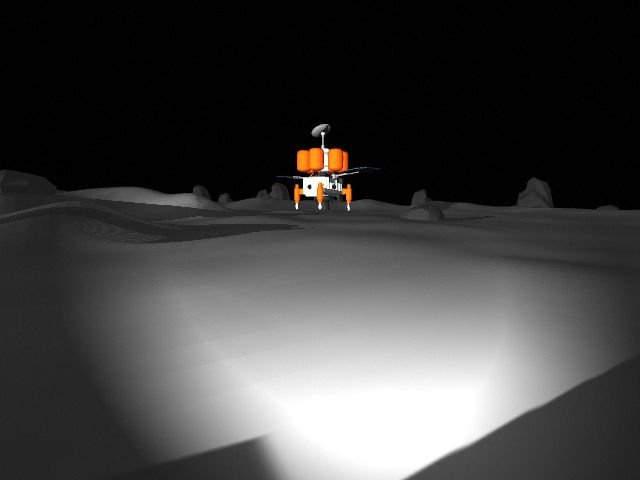homebase: (268, 122, 378, 214)
